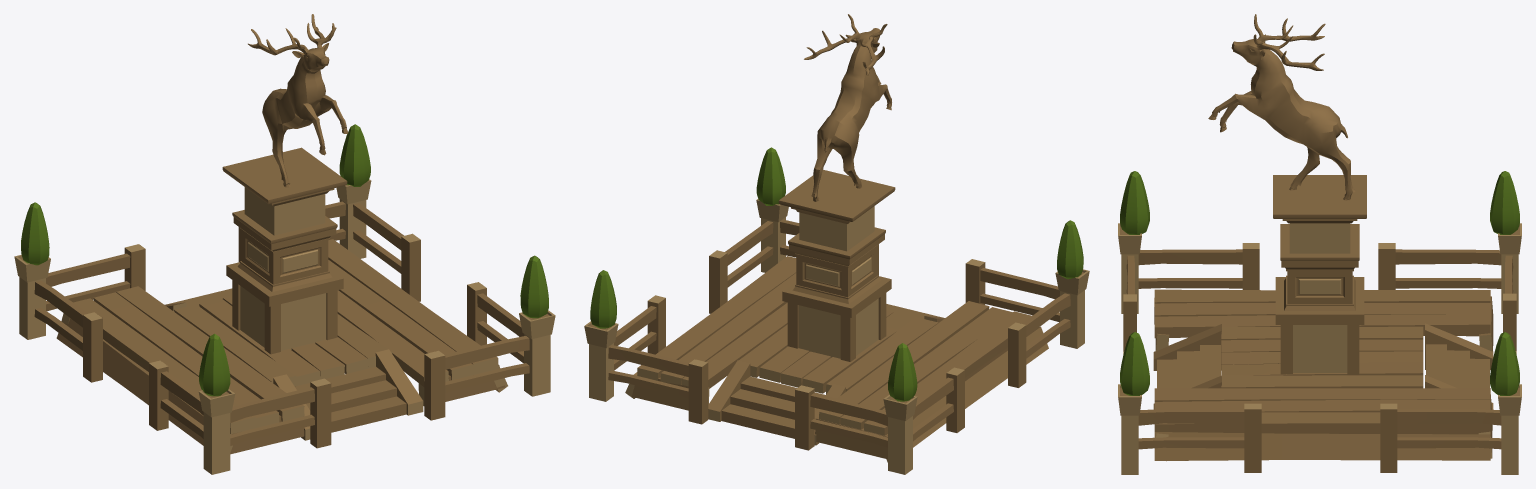
The model's file is TownCenter_FirstAge_Level3.glb.
3 views of the same model, side by side, from view 1: azimuth 30°, elevation 25°; view 2: azimuth 150°, elevation 25°; view 3: azimuth 270°, elevation 25° (orthographic). The views are drawn at different scales.
Visible parts, largest first — view 1: TownCenter_FirstAge_Level3; view 2: TownCenter_FirstAge_Level3; view 3: TownCenter_FirstAge_Level3.
Part boxes in pixels (x1=…): TownCenter_FirstAge_Level3: x1=14, y1=14, x2=555, y2=474; TownCenter_FirstAge_Level3: x1=584, y1=14, x2=1089, y2=474; TownCenter_FirstAge_Level3: x1=1118, y1=14, x2=1521, y2=474.
Bounding box in the file's own units: 1.26 × 1.25 × 1.24.
